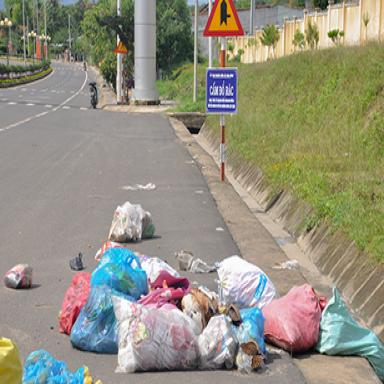plasticbag: (82, 237, 294, 381), (250, 252, 378, 374), (56, 232, 156, 360), (104, 196, 153, 239), (113, 164, 163, 194)
